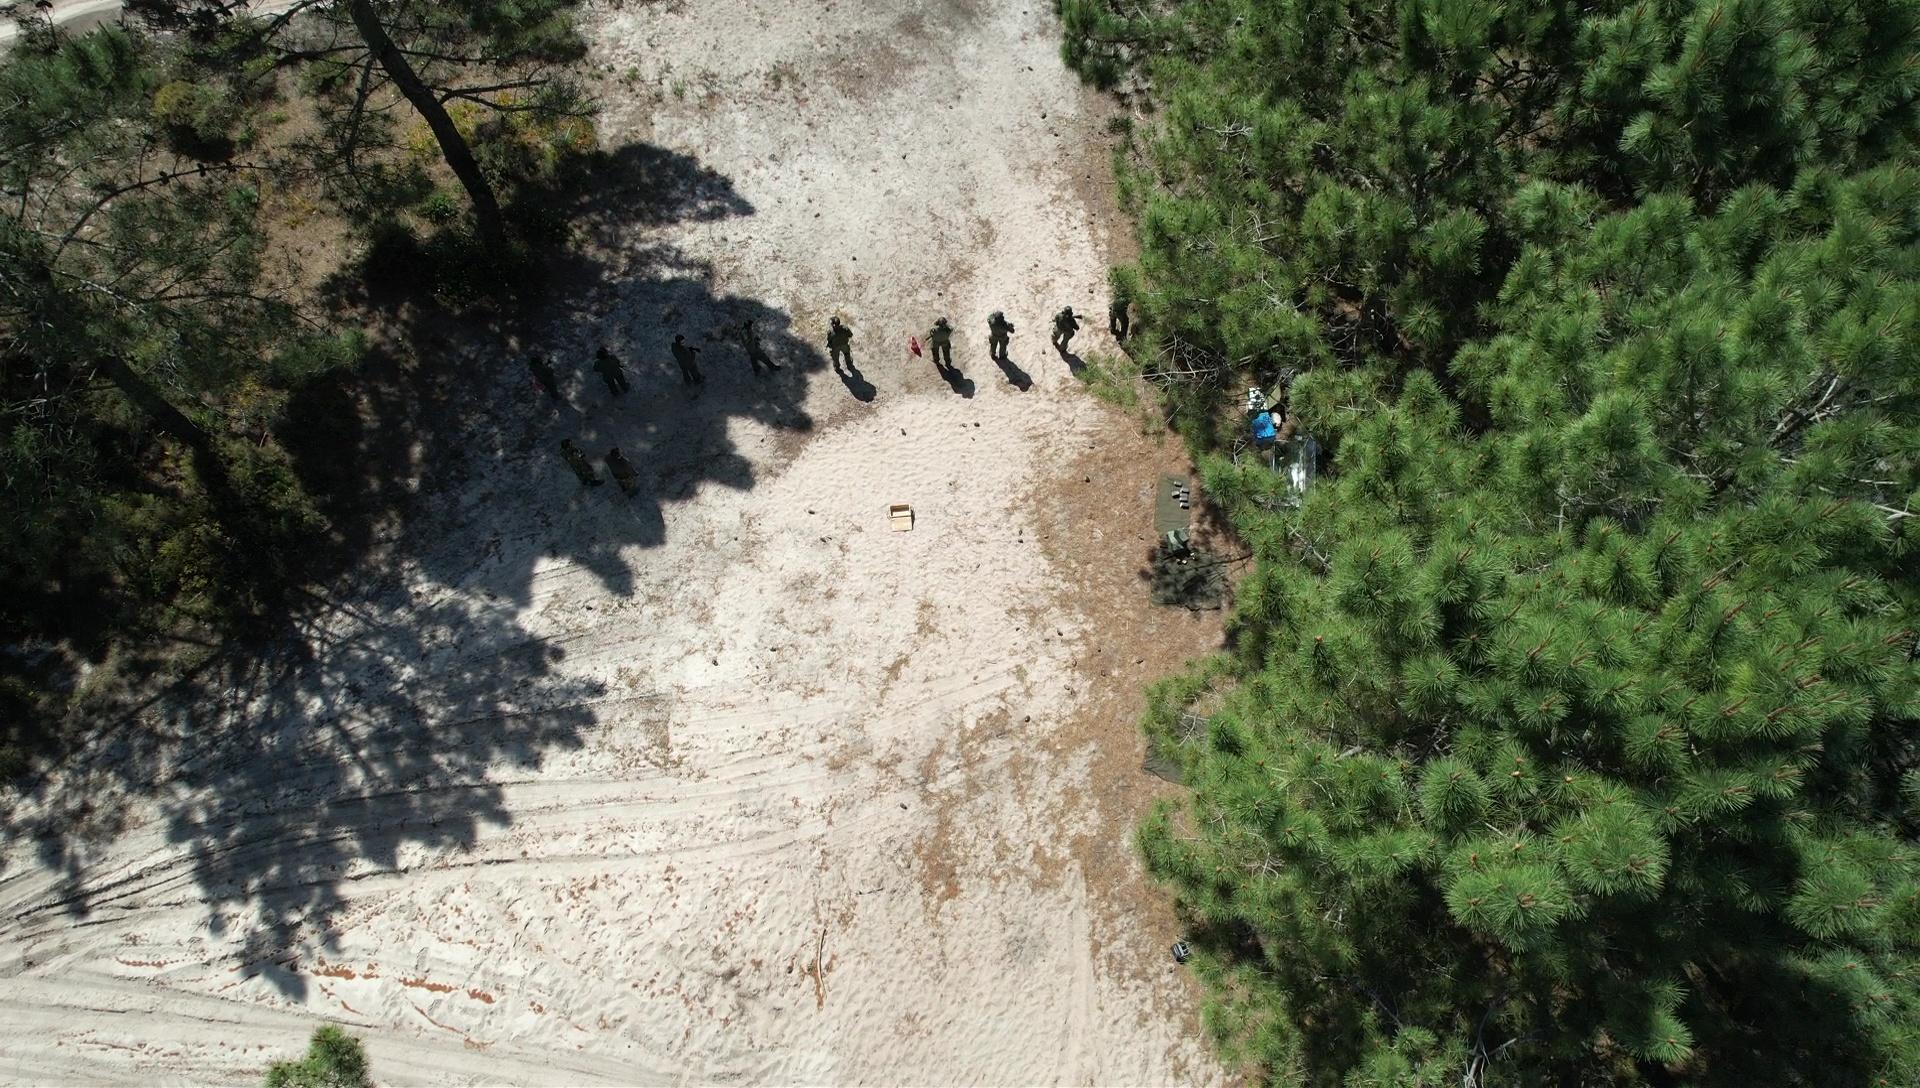Soldier: (742, 306, 796, 382), (659, 328, 713, 400), (588, 444, 650, 505), (547, 435, 603, 502), (585, 343, 647, 401), (816, 313, 865, 382), (521, 351, 564, 410), (928, 317, 961, 380), (1048, 303, 1084, 361), (982, 309, 1019, 363)
